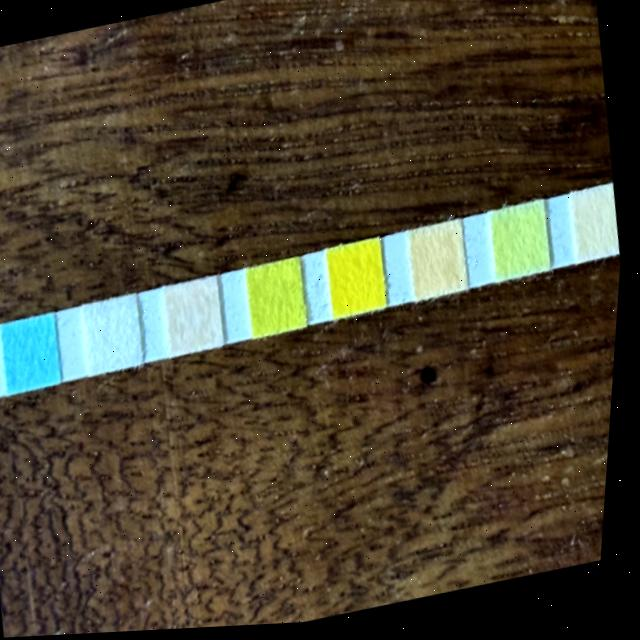Bilirubin: (83, 291, 154, 376)
Blood: (329, 239, 395, 320)
Glucose: (3, 312, 70, 395)
Ketone: (165, 278, 231, 356)
Protein: (491, 205, 559, 286)
SpGravity: (252, 260, 316, 340)
Urobilinogen: (572, 187, 627, 268)
pH: (411, 224, 477, 304)
